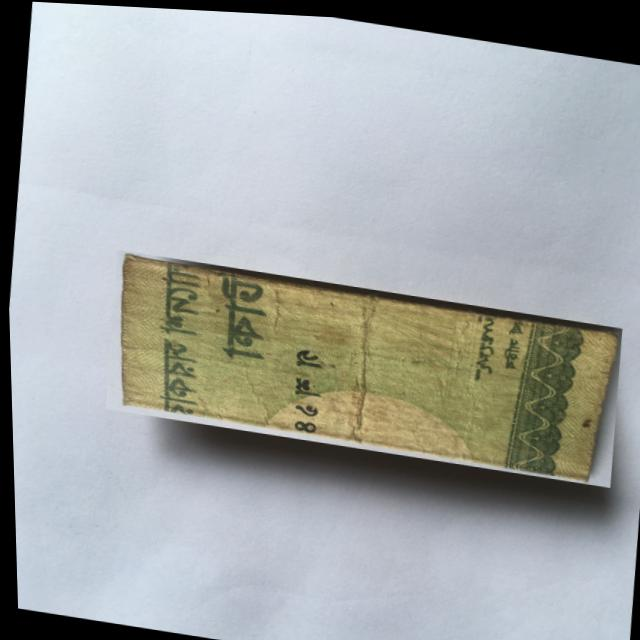Taka: (99, 247, 624, 481)
